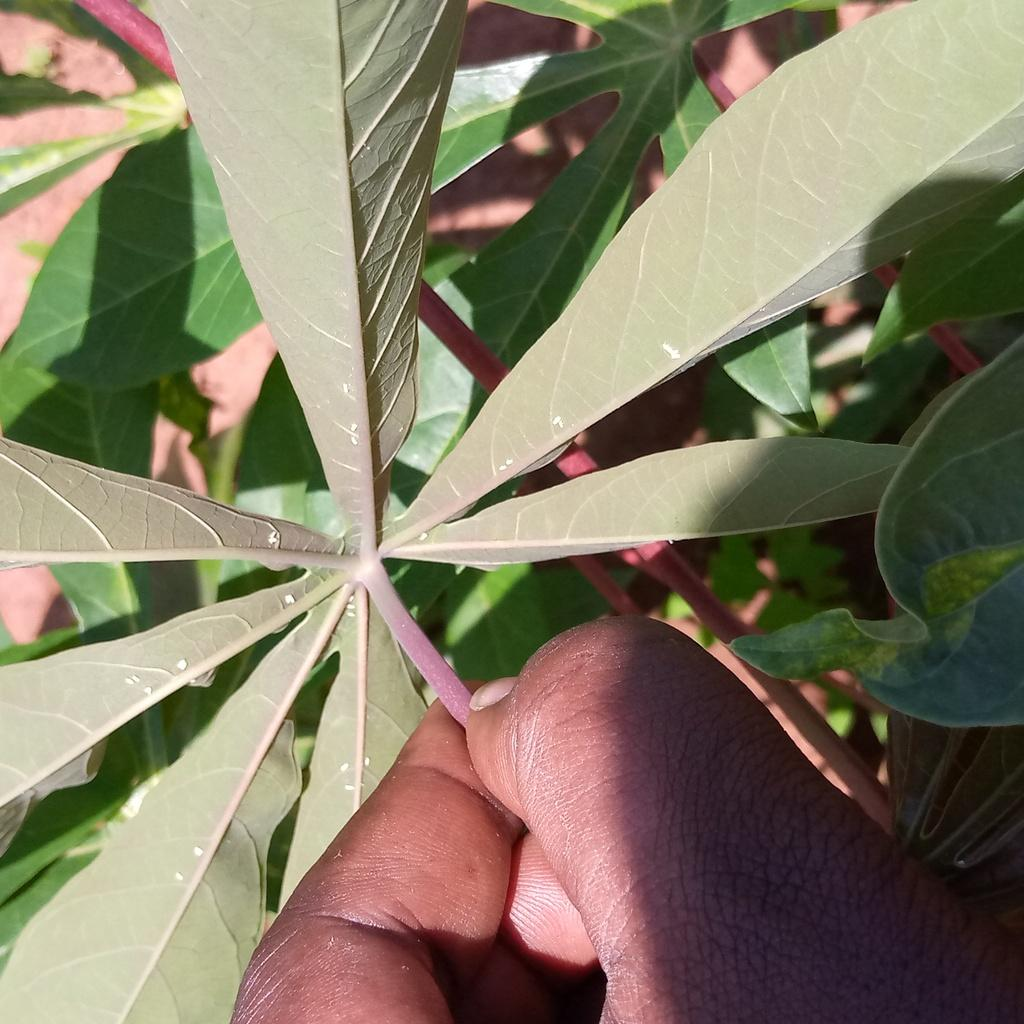adult: (267, 531, 279, 545), (176, 659, 188, 671), (193, 846, 204, 857), (284, 594, 295, 605), (130, 674, 141, 684), (662, 343, 673, 353), (349, 422, 358, 432), (339, 763, 349, 772), (174, 872, 184, 881), (143, 686, 152, 696), (350, 436, 359, 446), (418, 532, 428, 541), (498, 463, 508, 472), (552, 416, 561, 426), (344, 784, 355, 792), (125, 677, 135, 685), (342, 383, 349, 393), (669, 349, 679, 356), (670, 353, 681, 359), (505, 459, 514, 466), (346, 604, 356, 610), (558, 419, 564, 429), (347, 612, 356, 618), (349, 595, 355, 602)
